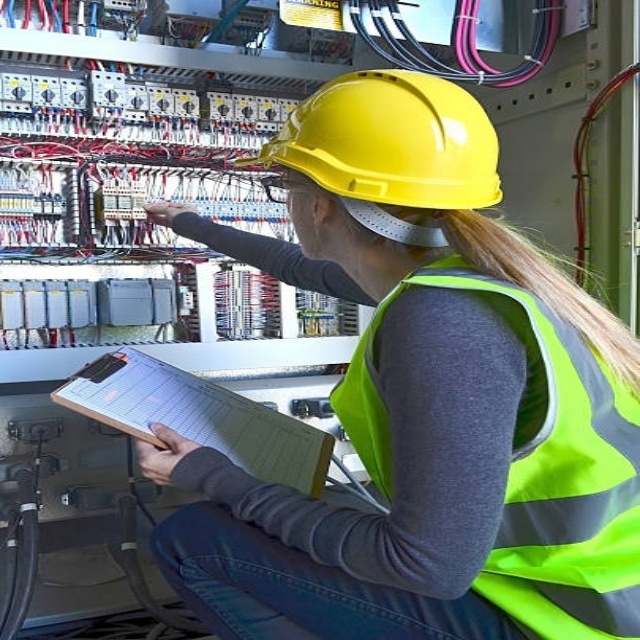Gafas: (259, 174, 318, 208)
Sin_guantes: (130, 425, 205, 487)
